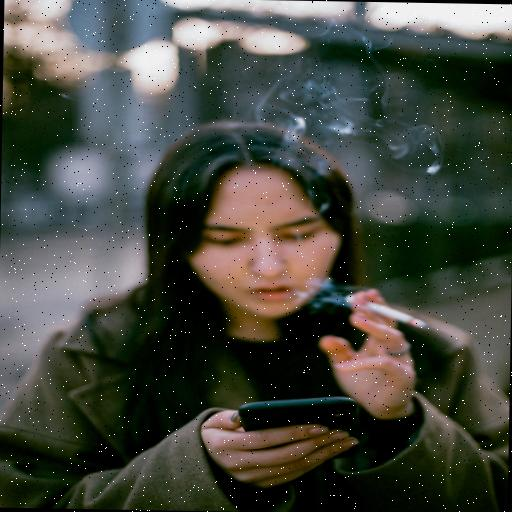terdeteksi pegang rokok: (322, 267, 440, 380)
